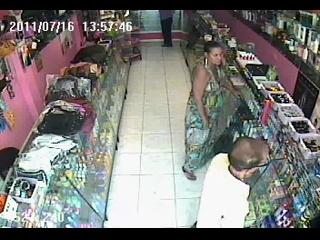Normal: (182, 40, 244, 180), (194, 136, 272, 228), (158, 10, 176, 48), (121, 46, 142, 64)
